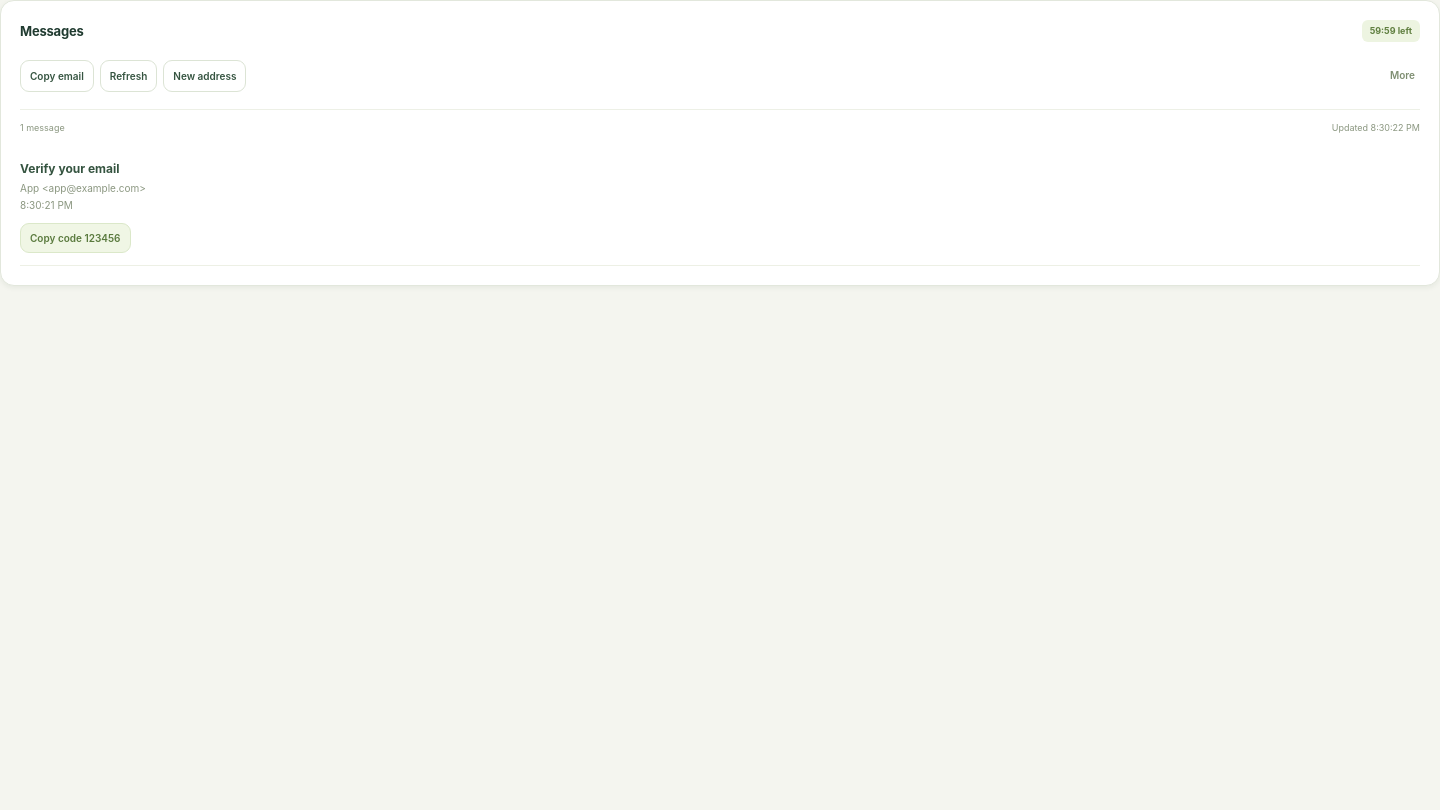
Scenario: compact inbox controls › opens a message and deletes only that message after confirmation
Click the button with class "mail-row".
click(70, 169)  # box [20,150,1420,223]
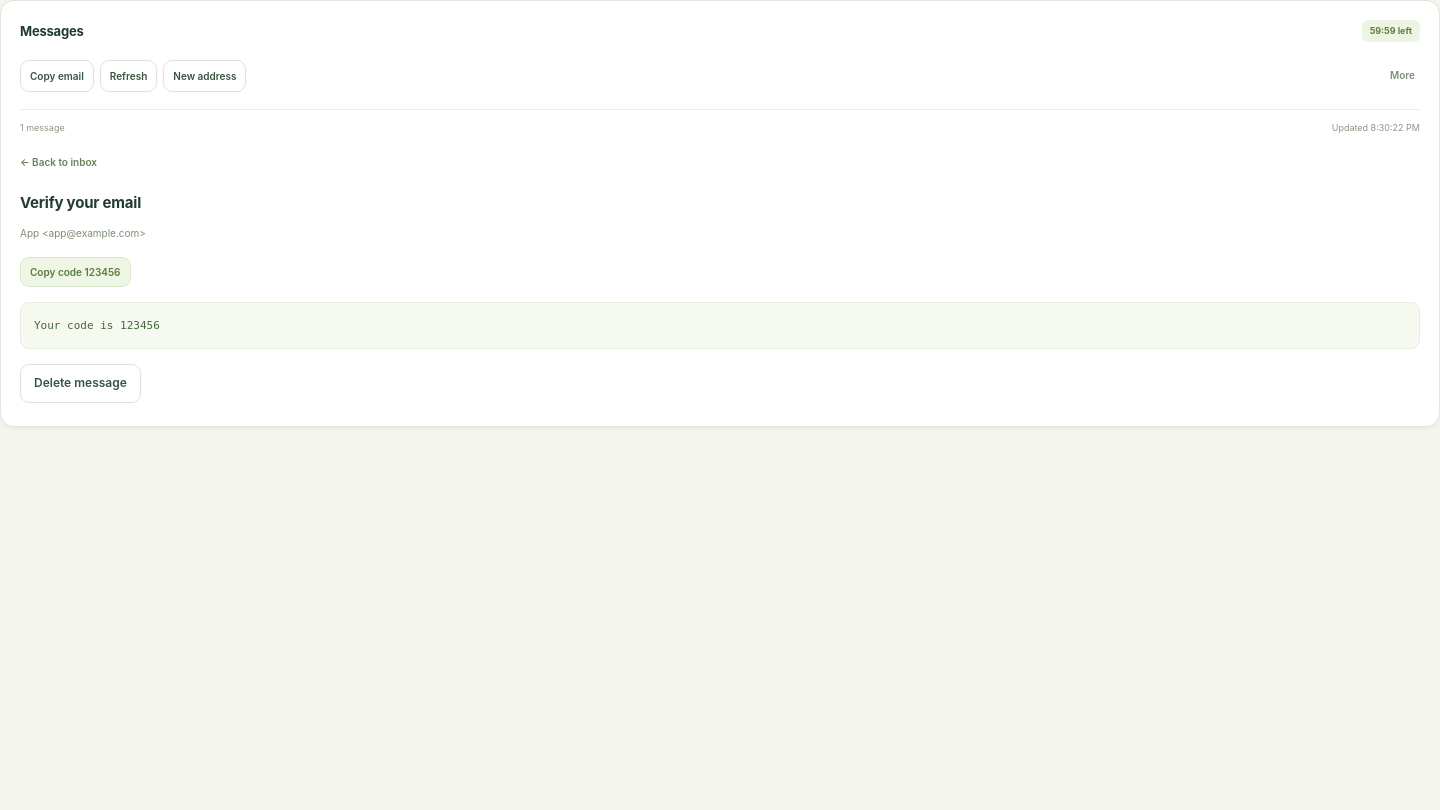
Expected: the button "Delete message" is shown
Click the button "Delete message".
click(80, 384)  # box [20,364,141,403]
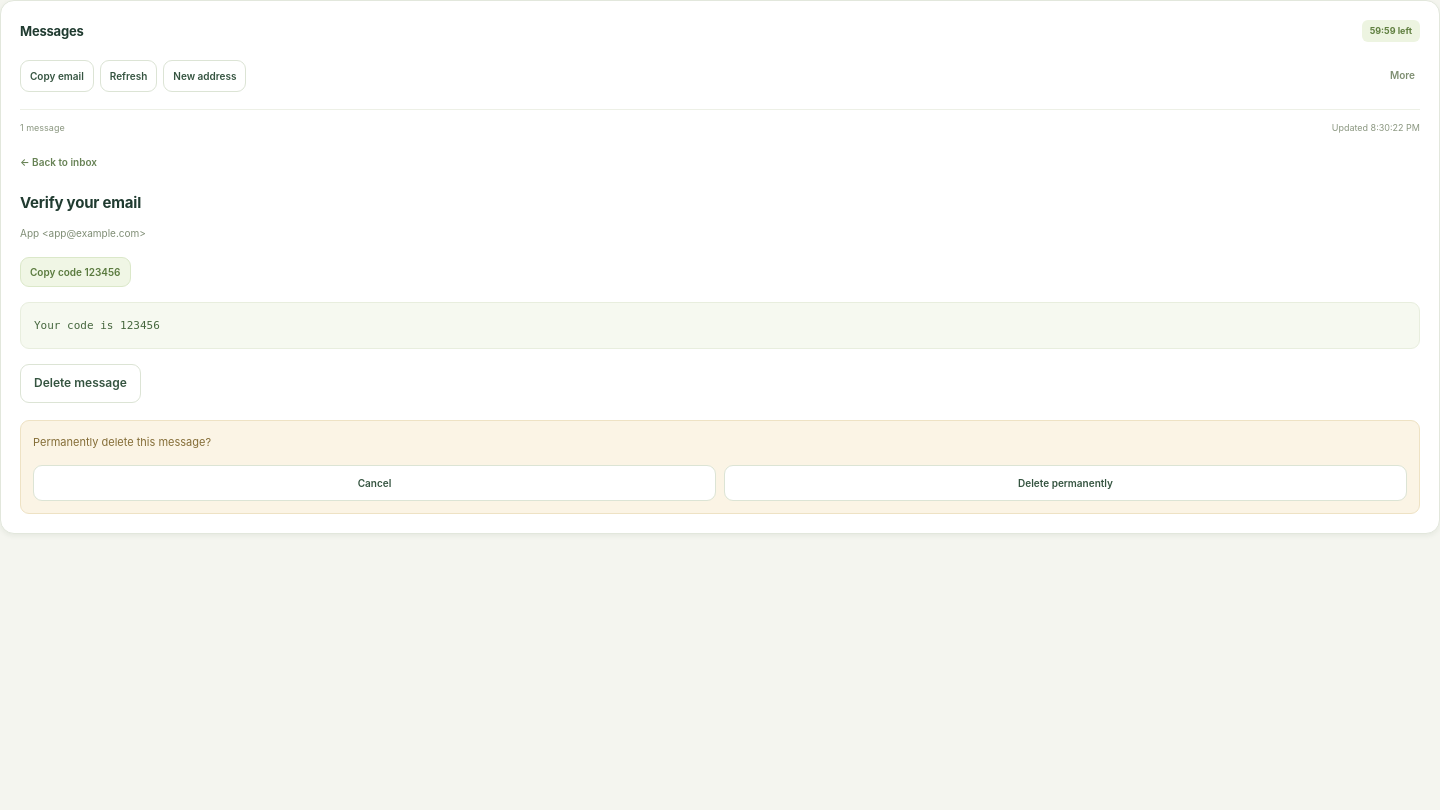
Expected: the button "Delete permanently" is shown
Click the button "Delete permanently".
click(1066, 483)  # box [724,465,1407,501]
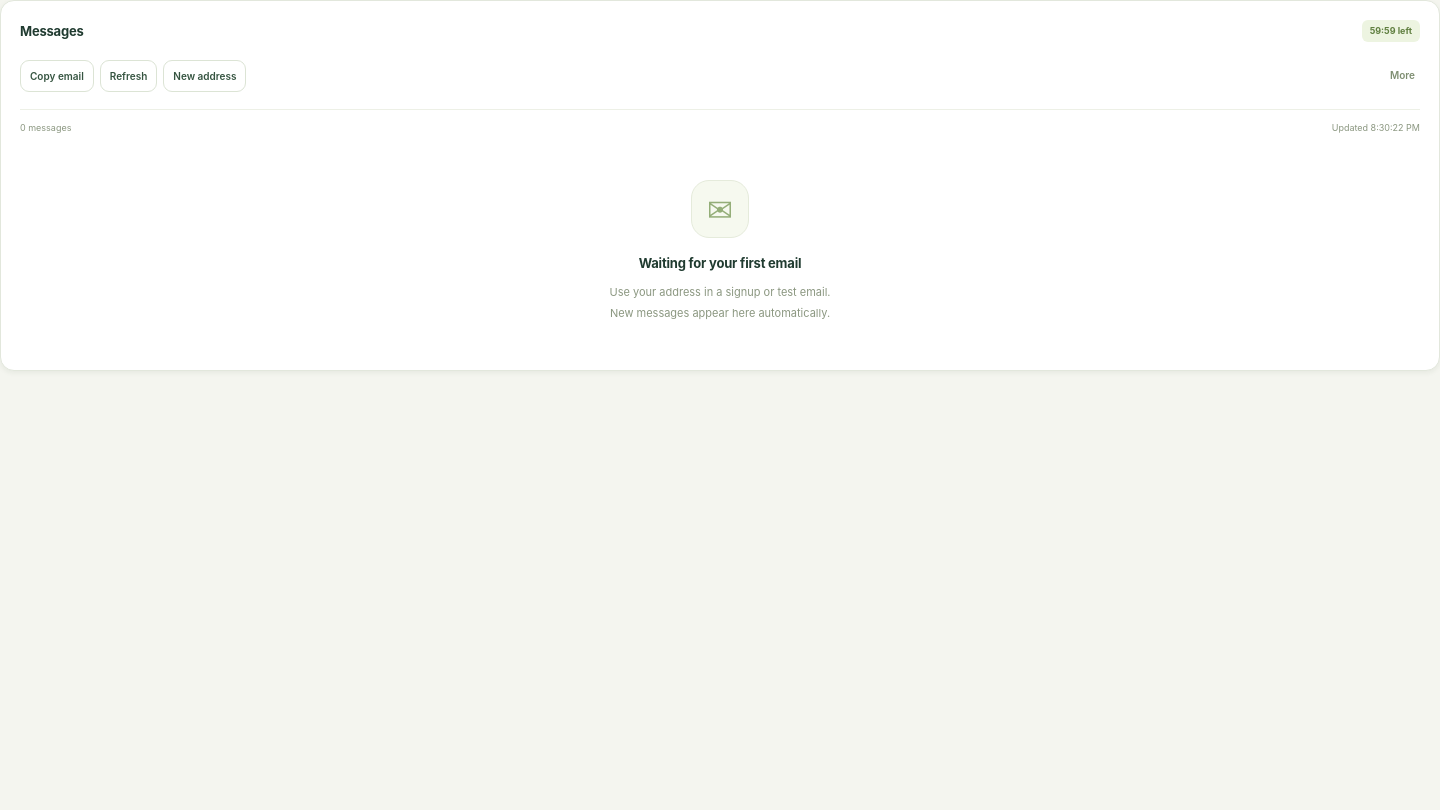
Expected: the text "Waiting for your first email" is shown, [639,255,801,271]
